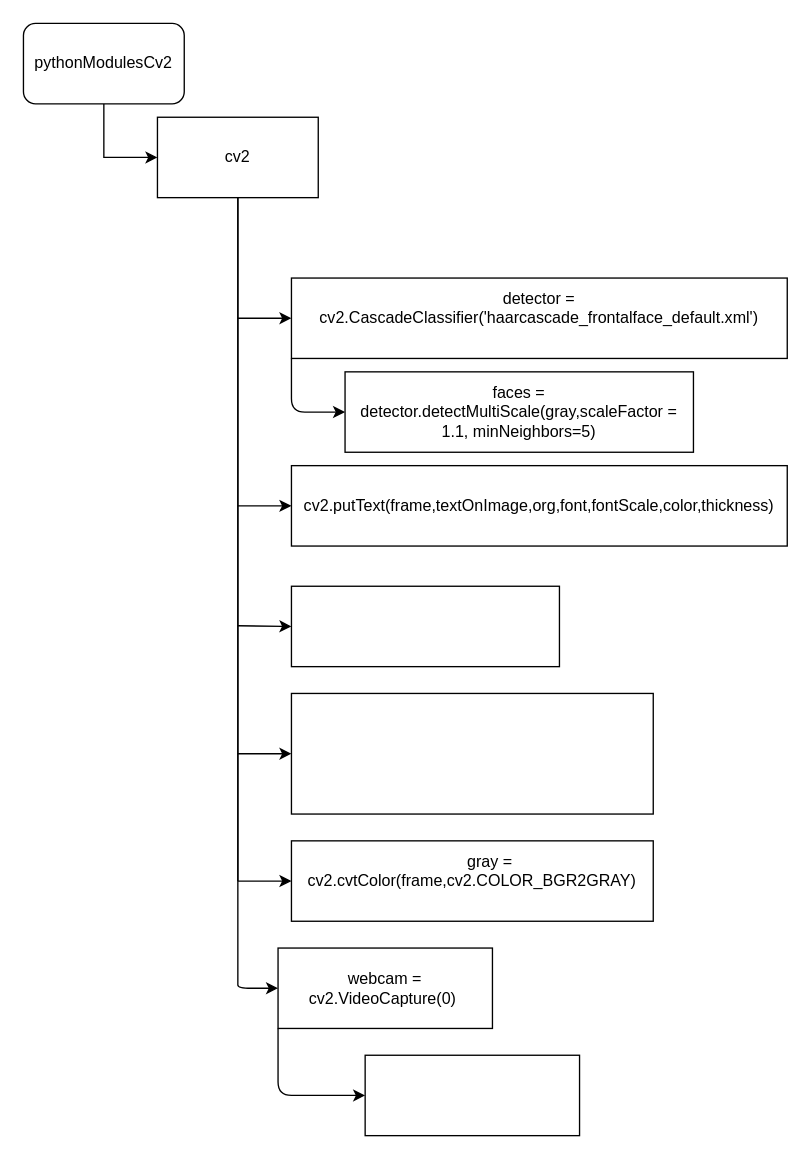
Image size: 811x1159. Some labels were removed from this diagram. Here are the shapes that lost their labels. From the top down, the centre of each, then its label:
(424,626): cv2.imshow("image", frame)
(471,753): cv2.rectangle(frame,(x,y),(x+w,y+h),color ,thickness)
(472,1095): check, frame = webcam.read()
